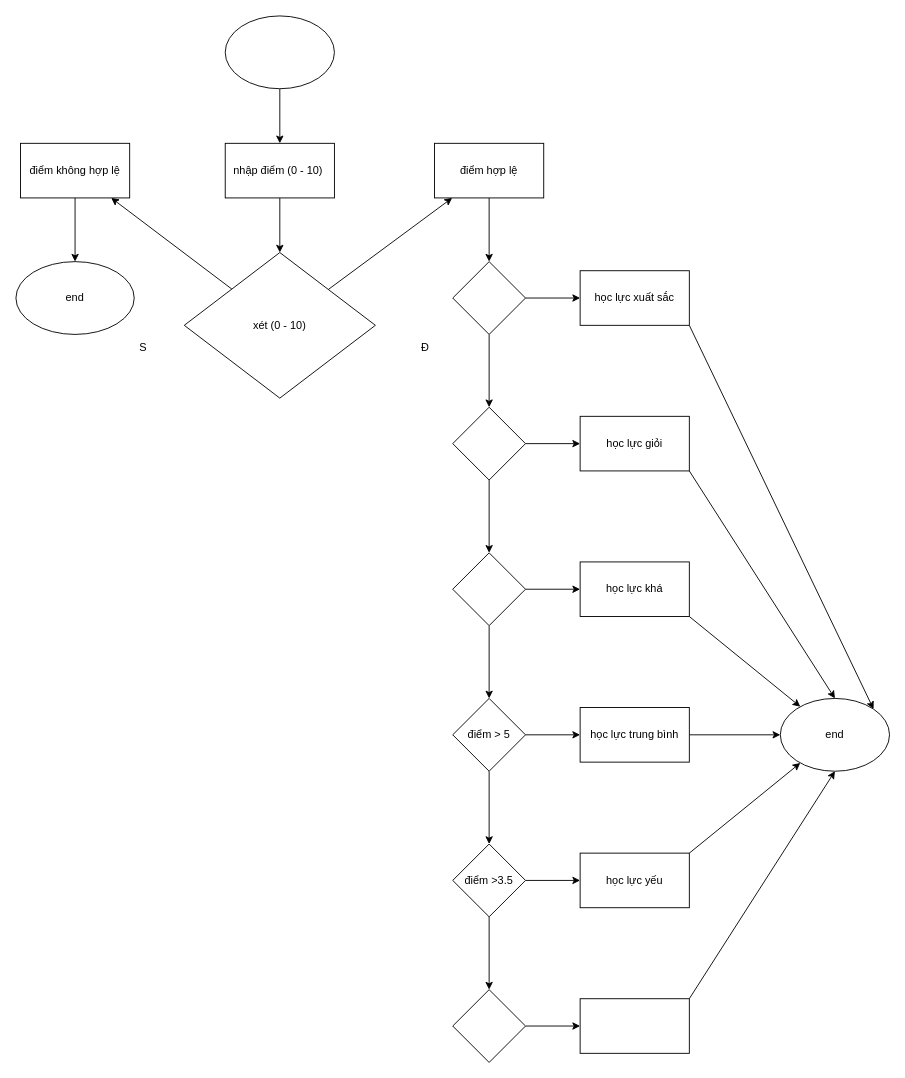
Image size: 905x1078. Some labels were removed from this diagram. Here are the shapes that lost their labels. From the top down, the box of each, then its label:
(224, 15, 334, 89): start
(452, 261, 526, 334): điểm >9
(452, 406, 526, 480): điểm >8
(452, 552, 526, 626): điểm >6.5
(452, 989, 526, 1062): điểm >0
(579, 998, 689, 1053): học lực kém
